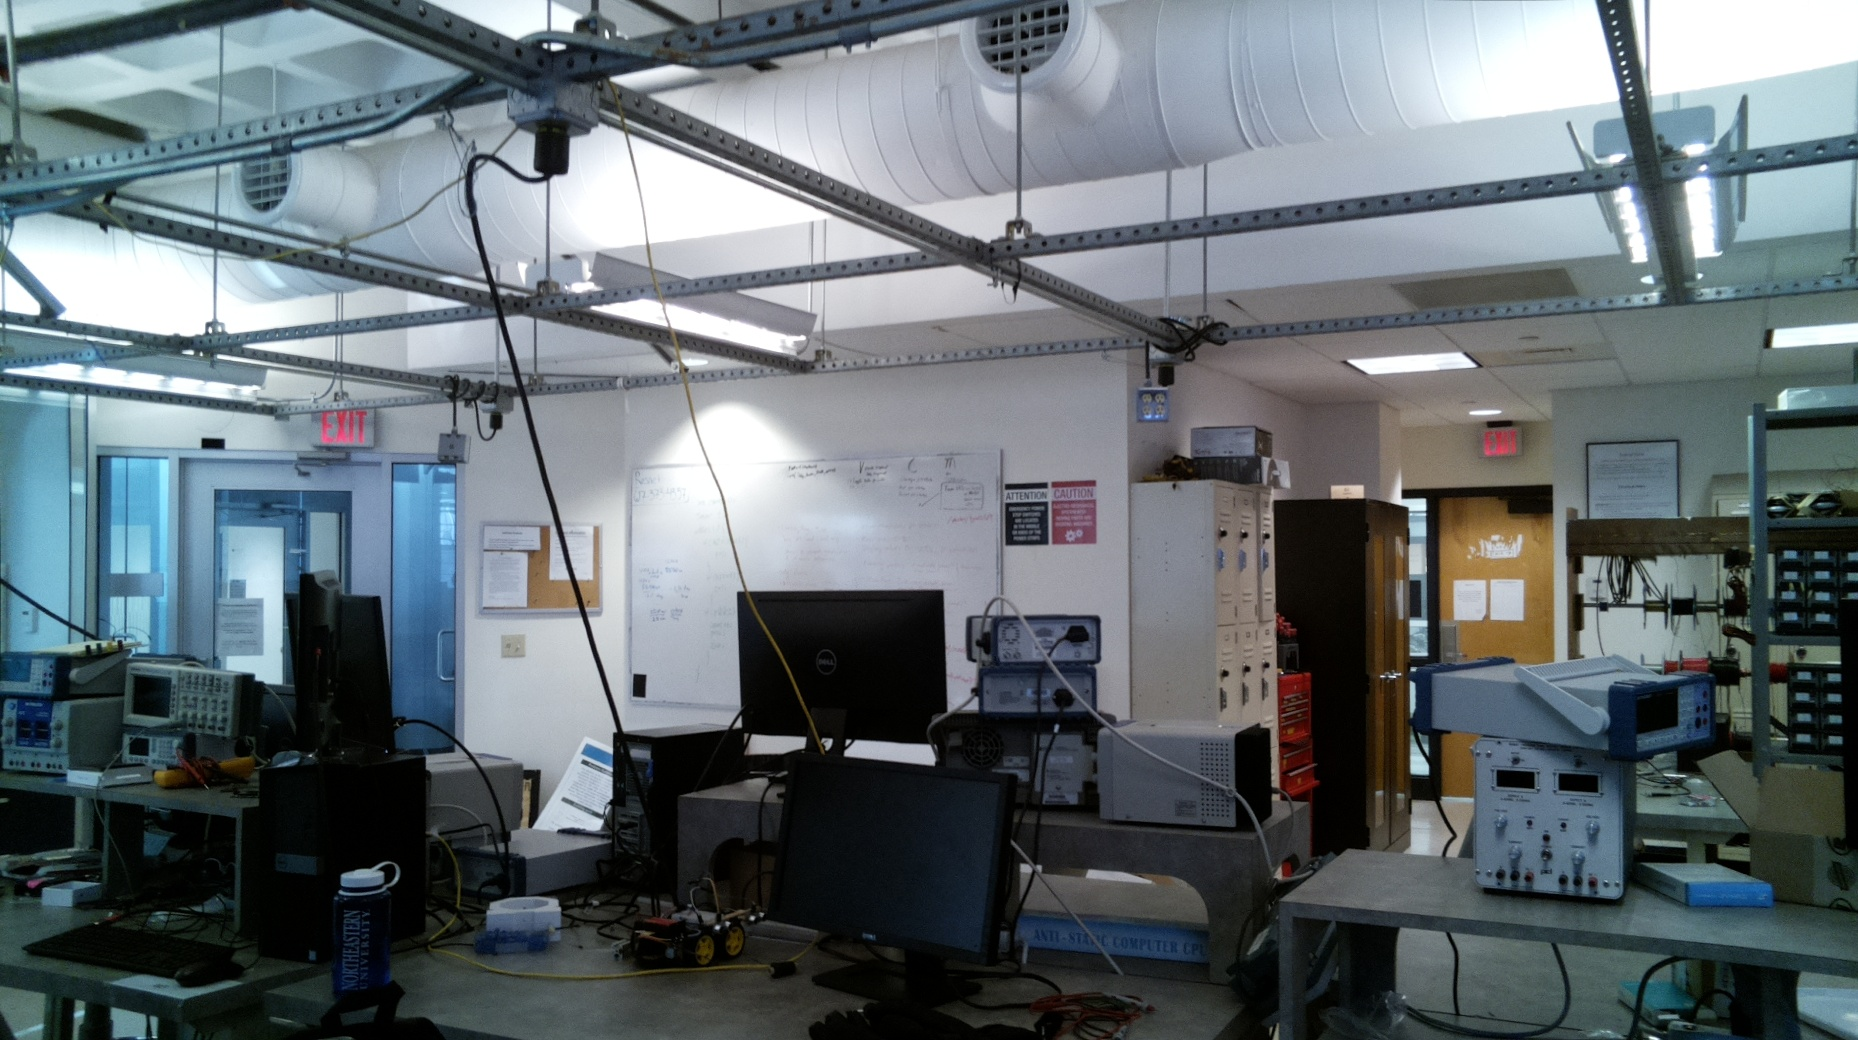exit sign: (308, 405, 376, 450), (1476, 425, 1525, 461)
